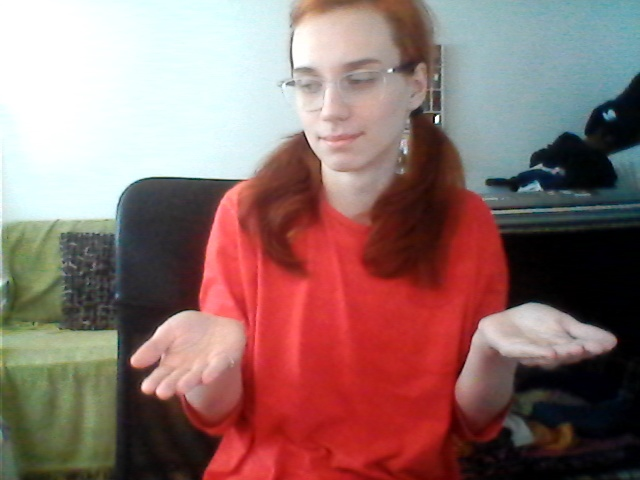alebo: (124, 299, 631, 402)
